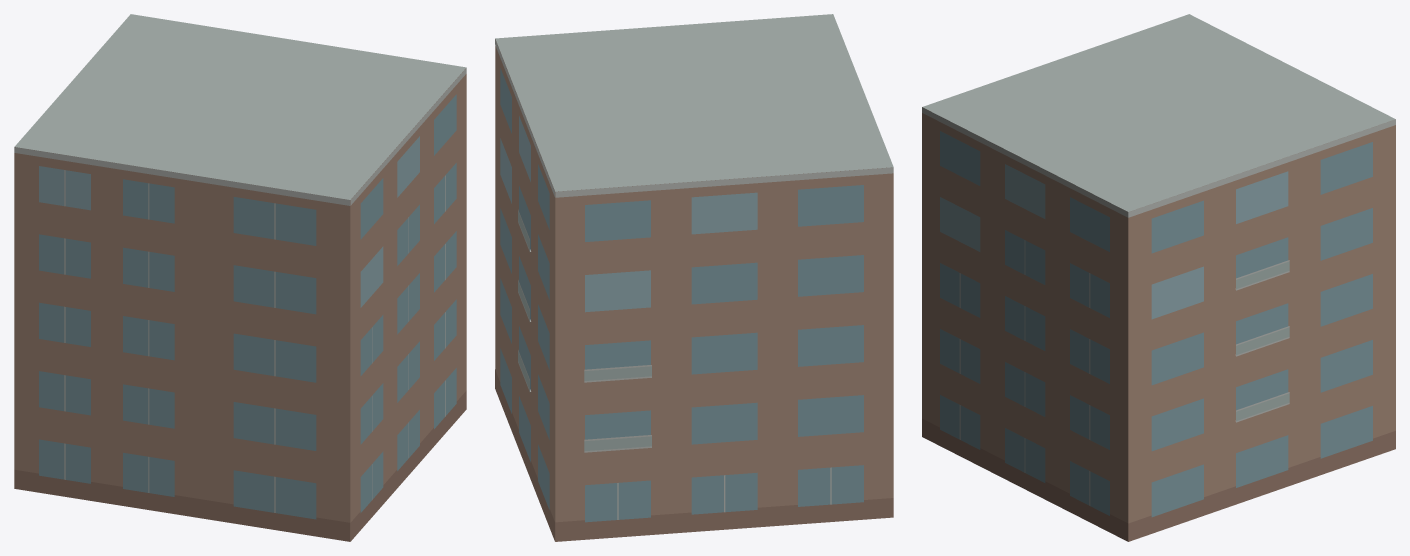
Rendered from survey-upis-32969958.glb.
3 views of the same model, side by side, from view 1: azimuth 30°, elevation 25°; view 2: azimuth 150°, elevation 25°; view 3: azimuth 270°, elevation 25° (orthographic). The views are drawn at different scales.
Parts seen in each view (by area): view 1: survey-upis-32969958.tmp; view 2: survey-upis-32969958.tmp; view 3: survey-upis-32969958.tmp.
Boxes of the visible parts, x1,y1,x2,y2 form: survey-upis-32969958.tmp: (14,14,466,541); survey-upis-32969958.tmp: (495,14,893,541); survey-upis-32969958.tmp: (922,14,1395,541).
Size of the model in its own units: 17.97 by 13.95 by 18.17.
